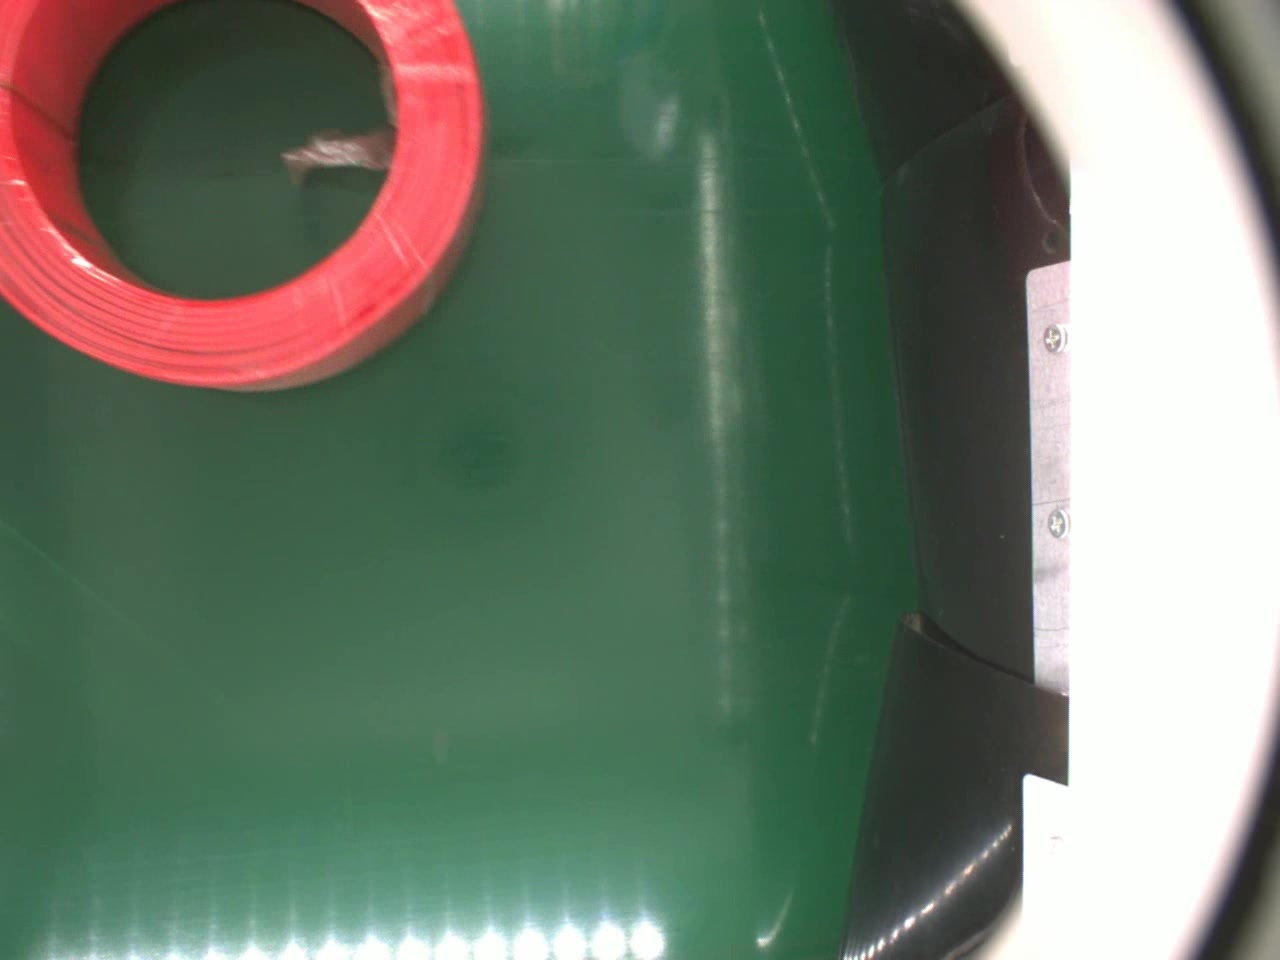red: (0, 0, 487, 396)
